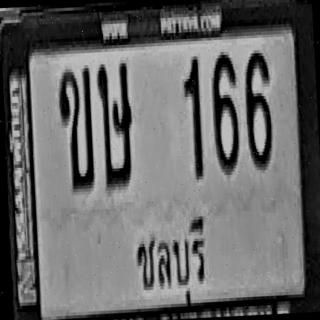A02: (50, 50, 104, 212)
A39: (92, 37, 144, 204)
N01: (175, 46, 215, 196)
N06: (241, 43, 282, 198), (208, 41, 247, 193)
P13: (130, 201, 217, 320)
